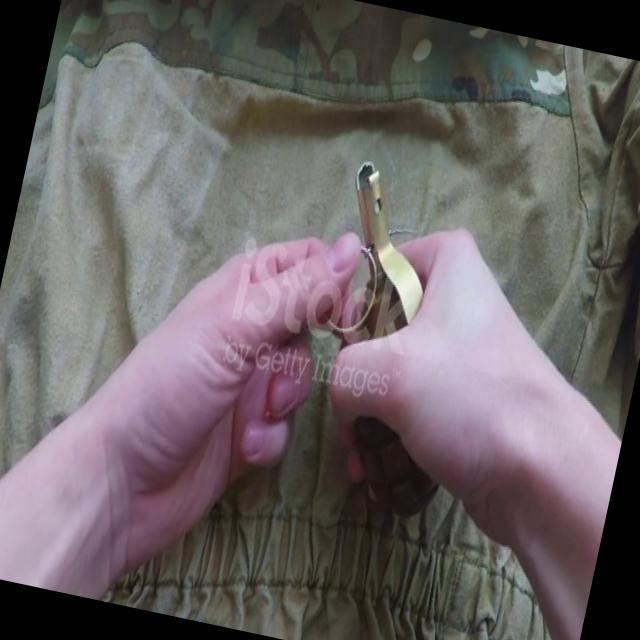grenade: (292, 158, 504, 524)
